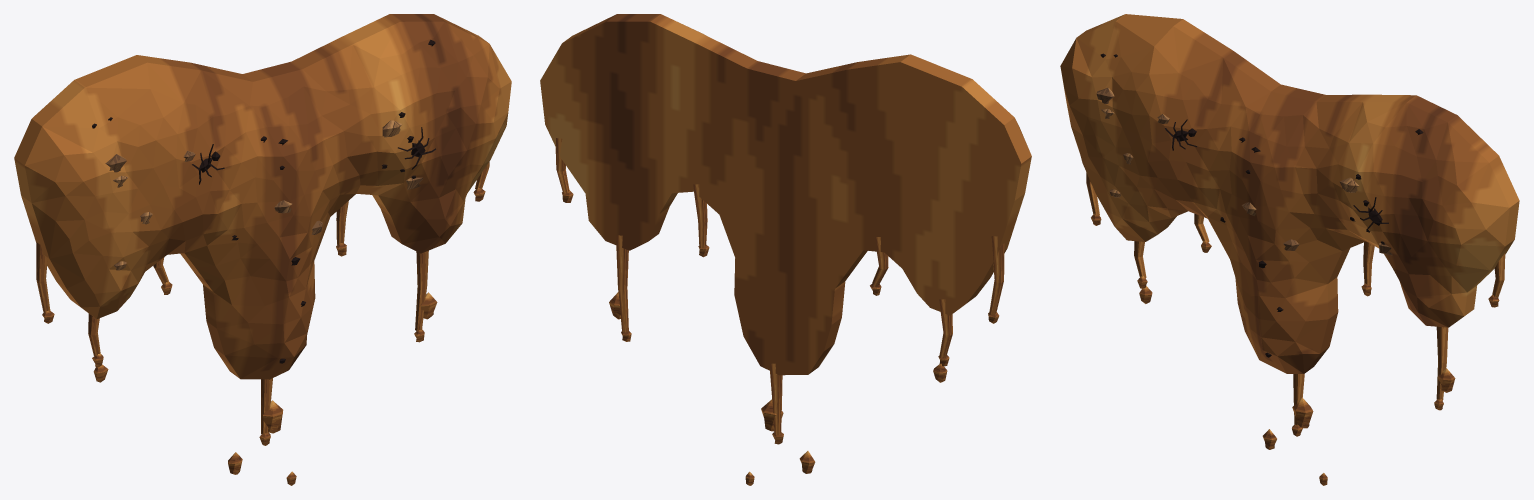
Rendered from SM_AN35_ResinPatch.fbx.
The picture shows the model from 3 angles, left to right: view 1: azimuth 30°, elevation 25°; view 2: azimuth 150°, elevation 25°; view 3: azimuth 330°, elevation 25°; orthographic projection. The views are drawn at different scales.
Visible parts, largest first — view 1: AN35a_Props; view 2: AN35a_Props; view 3: AN35a_Props.
Boxes of the visible parts, left/top/right/bottom form: AN35a_Props: left=14, top=14, right=511, bottom=485; AN35a_Props: left=540, top=14, right=1031, bottom=485; AN35a_Props: left=1060, top=14, right=1519, bottom=485.
Bounding box in the file's own units: 1.19 × 1.09 × 0.1741.
